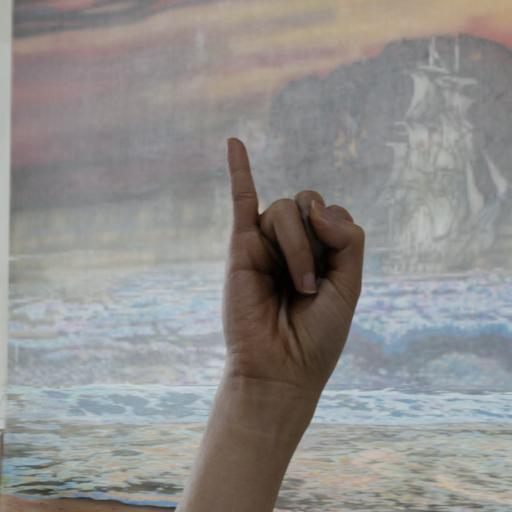I: (211, 130, 375, 392)
